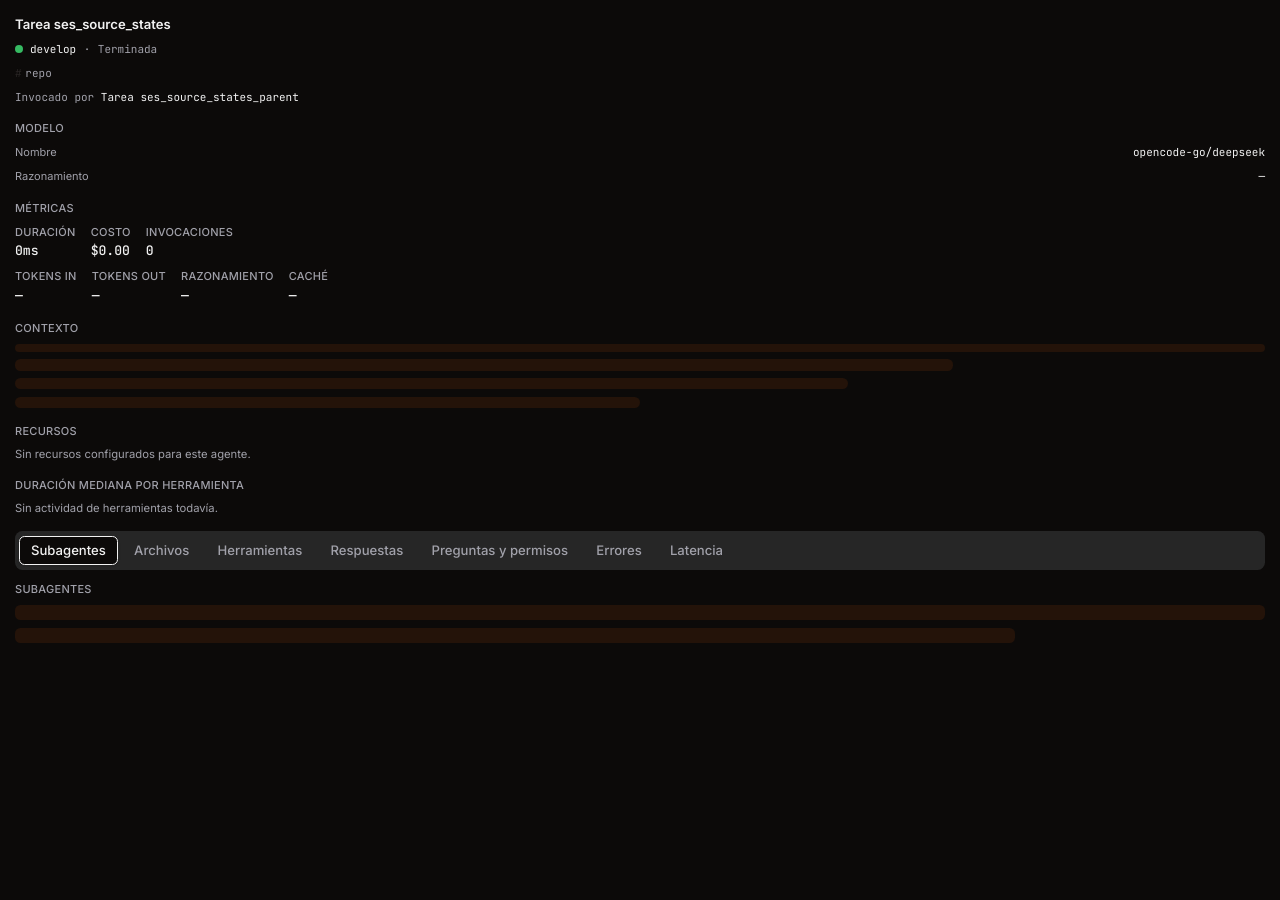
Test: InspectorPanel — estados por fuente de cada sección (§5, U6↔U4) › Latencia: los mensajes del padre pendientes muestran carga y nunca el vacío ni el error
The image size is (1280, 900).
Click the tab "Latencia": (696, 551) [658,536,735,565]
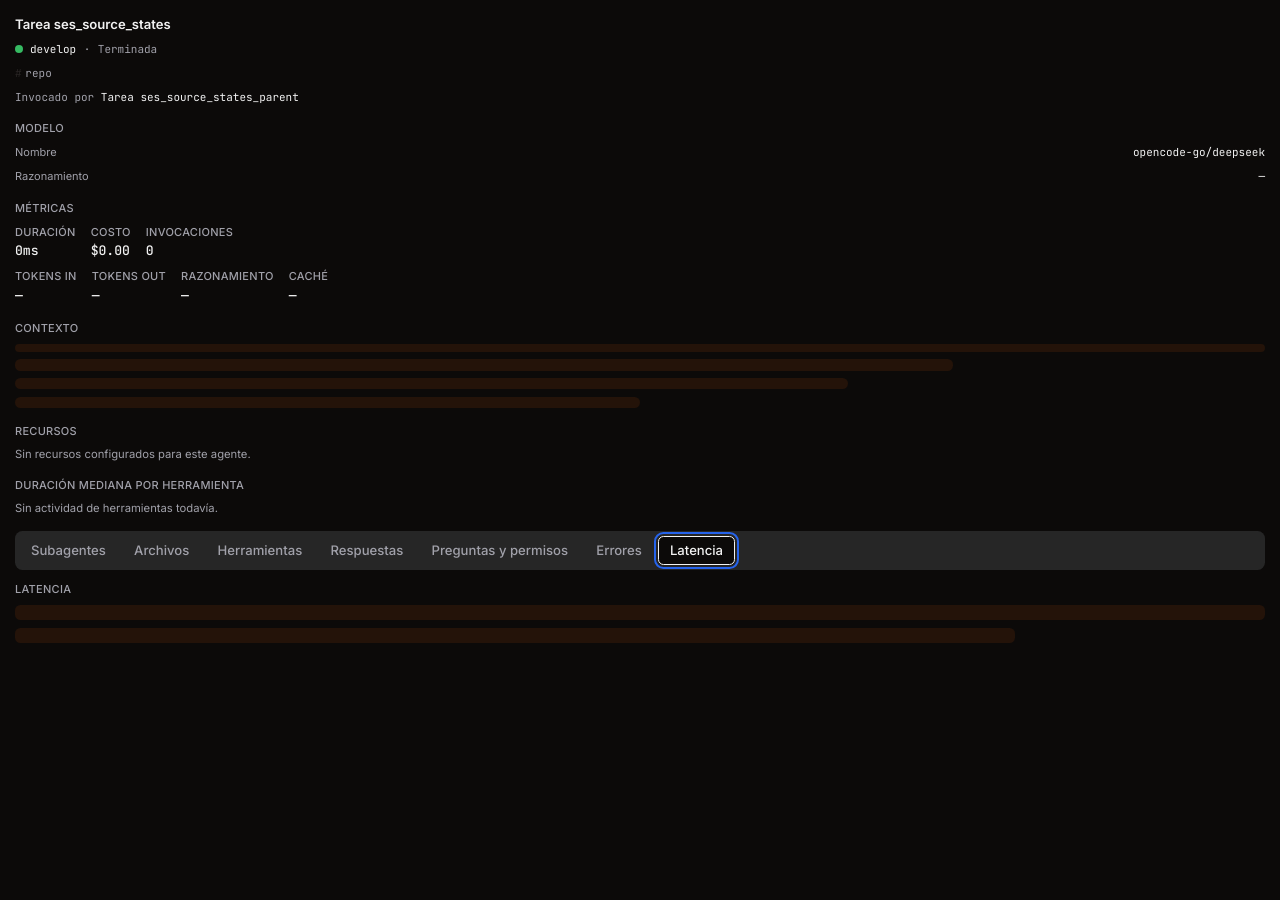
Check: the text "Latencia" is shown, box [15,582,71,596]
